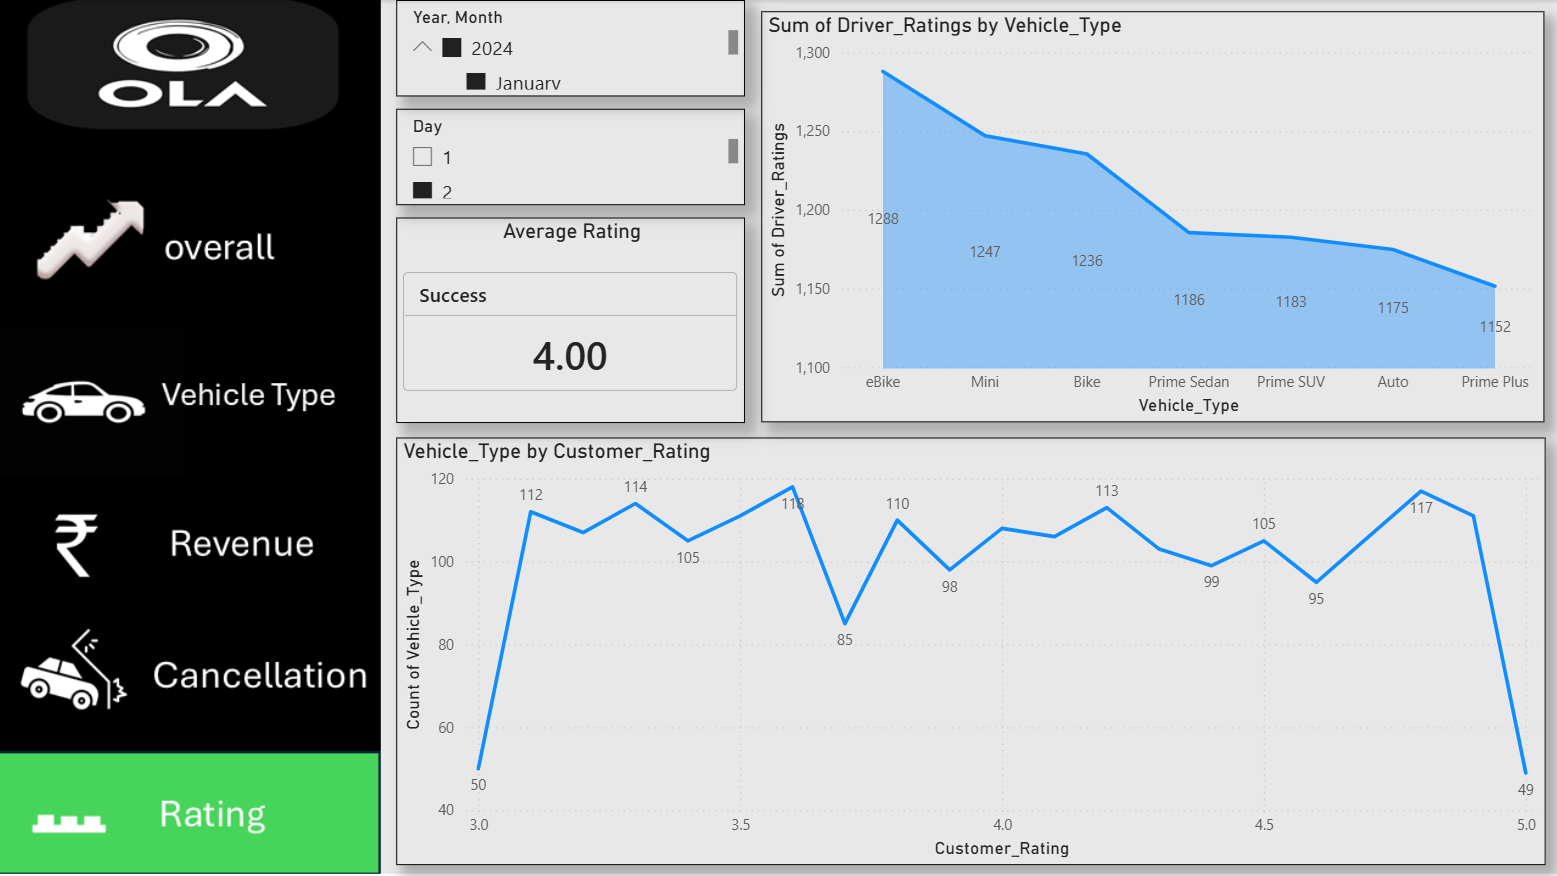

This screenshot's page, from the dashboard's own definition file:
{"tool":"powerbi","page":{"name":"Rating","canvas":[1280,720],"ordinal":4},"visuals":[{"type":"actionButton","box":[0,274.4,311.5,101.5],"z":0},{"type":"actionButton","box":[0,145.5,311.5,101.5],"z":1000},{"type":"actionButton","box":[0,397.9,311.5,101.5],"z":2000},{"type":"actionButton","box":[0,513.2,311.5,101.5],"z":3000},{"type":"stackedAreaChart","fields":{"Y":["Sum(July.Driver_Ratings)"],"Category":["July.Vehicle_Type"]},"box":[625.7,9.6,643.6,337.6],"z":3001},{"type":"lineChart","title":" Vehicle_Type by Customer_Rating","fields":{"Category":["July.Customer_Rating"],"Y":["CountNonNull(July.Vehicle_Type)"]},"box":[325.2,359.5,944.1,351.3],"z":3002},{"type":"cardVisual","title":"Average Rating","fields":{"Data":["Avg(July.Customer_Rating)"],"Rows":["July.Booking_Status"]},"box":[325.2,178.4,286.8,168.8],"z":3003},{"type":"slicer","fields":{"Values":["July.Date.Variation.Date Hierarchy.Year","July.Date.Variation.Date Hierarchy.Month"]},"box":[325.2,0,286.8,79.6],"z":3004},{"type":"slicer","fields":{"Values":["July.Date.Variation.Date Hierarchy.Day"]},"box":[325.2,89.2,286.8,79.6],"z":3005}]}

Visuals, with their boxes in screenshot pixels (x1, y1, x2, y2), scaled from the page's 1280x720 canvas onto the 1557x876 screenshot:
actionButton: bbox=[0, 334, 379, 457]
actionButton: bbox=[0, 177, 379, 301]
actionButton: bbox=[0, 484, 379, 608]
actionButton: bbox=[0, 624, 379, 748]
stackedAreaChart - Sum(July.Driver_Ratings) x July.Vehicle_Type: bbox=[761, 12, 1544, 422]
" Vehicle_Type by Customer_Rating" lineChart: bbox=[396, 437, 1544, 865]
"Average Rating" cardVisual: bbox=[396, 217, 744, 422]
slicer - July.Date.Variation.Date Hierarchy.Year x July.Date.Variation.Date Hierarchy.Month: bbox=[396, 0, 744, 97]
slicer - July.Date.Variation.Date Hierarchy.Day: bbox=[396, 109, 744, 205]
